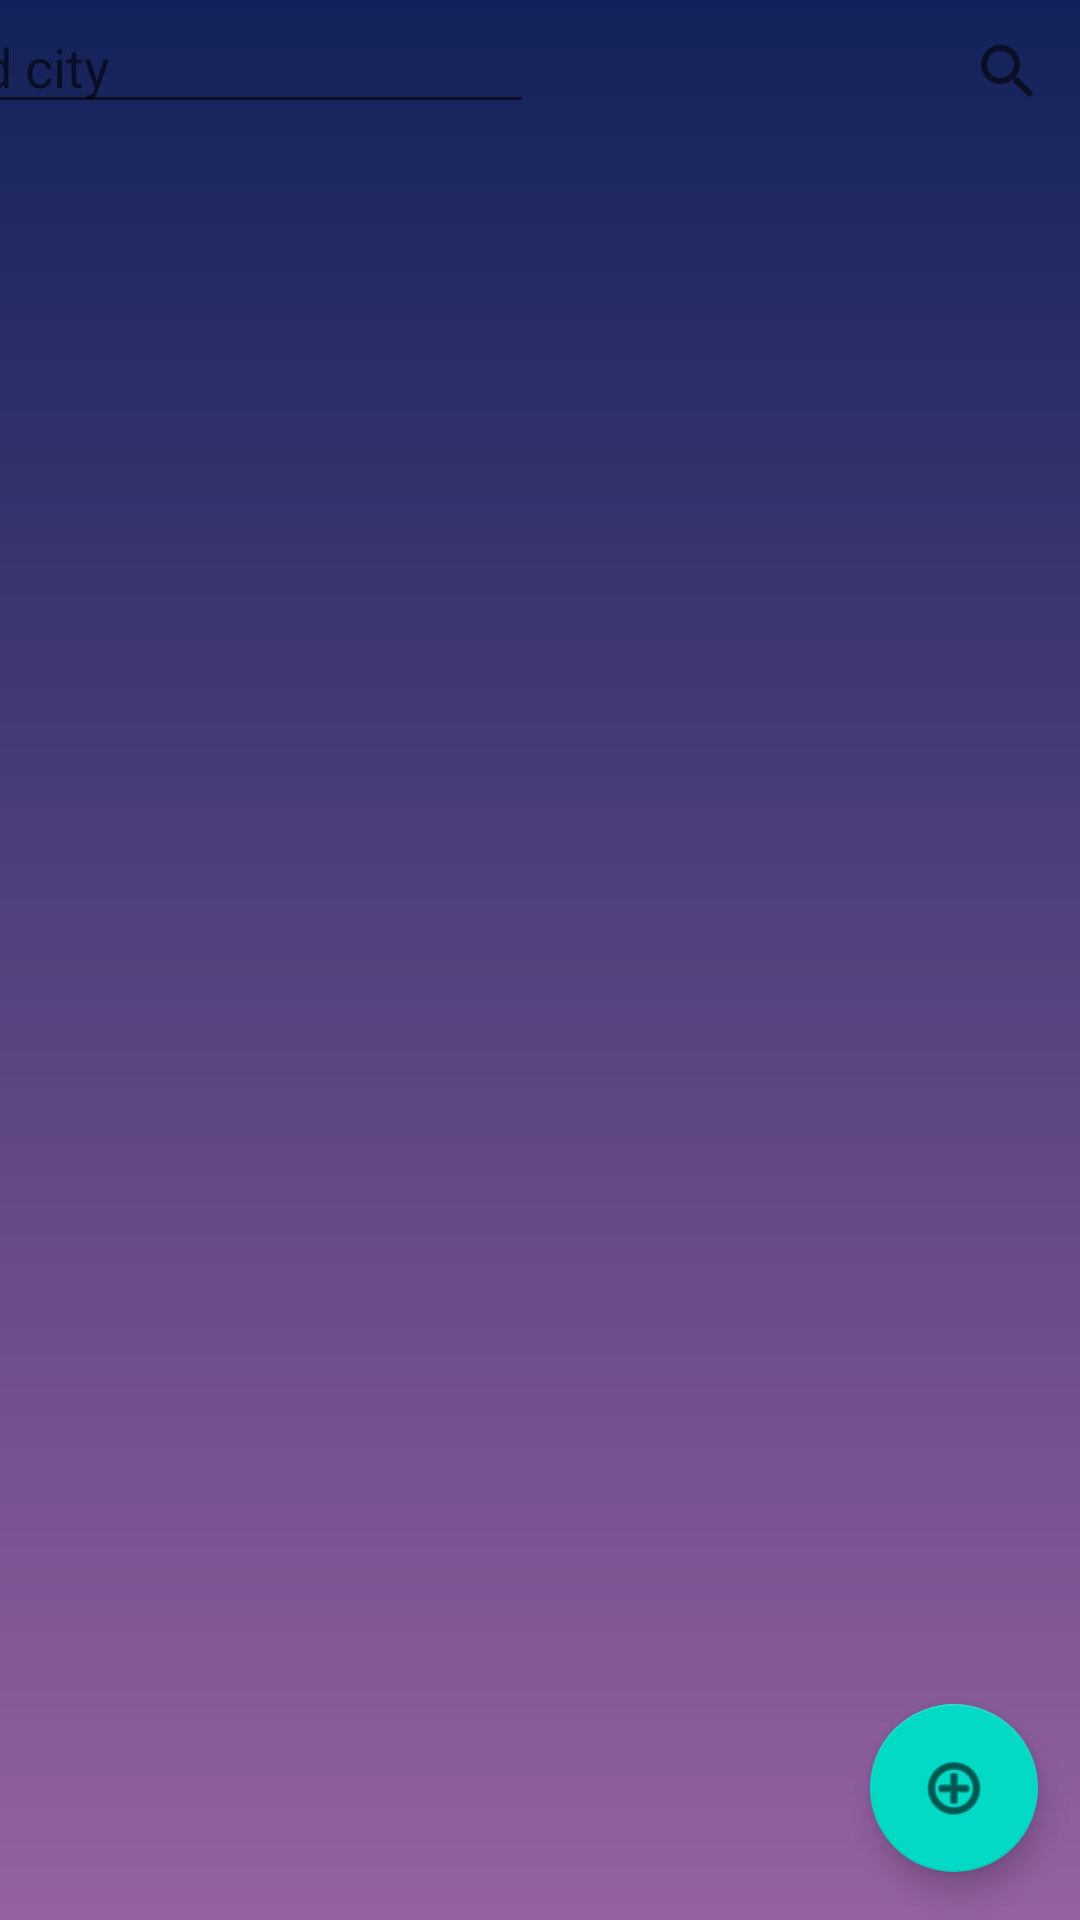

Named icons in this screenshot (1080*1920) and their centers, (x,y):
add: (954,1788)
